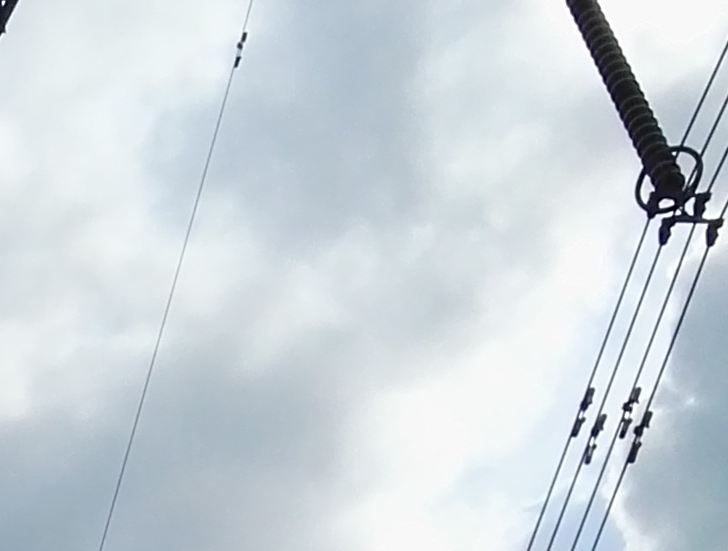damper: (627, 410, 654, 466), (617, 384, 641, 440), (583, 413, 606, 465), (572, 385, 594, 438), (230, 30, 247, 70)
